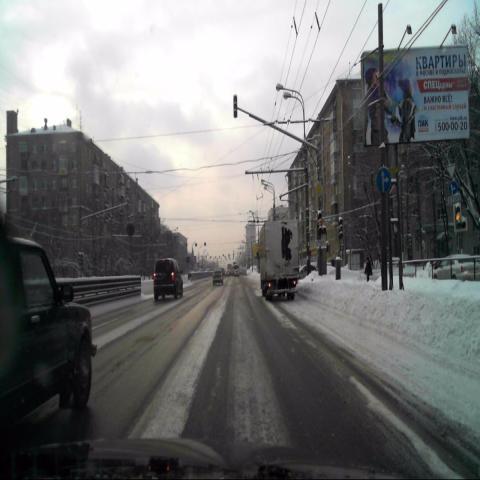4_1_4: (376, 168, 390, 193)
